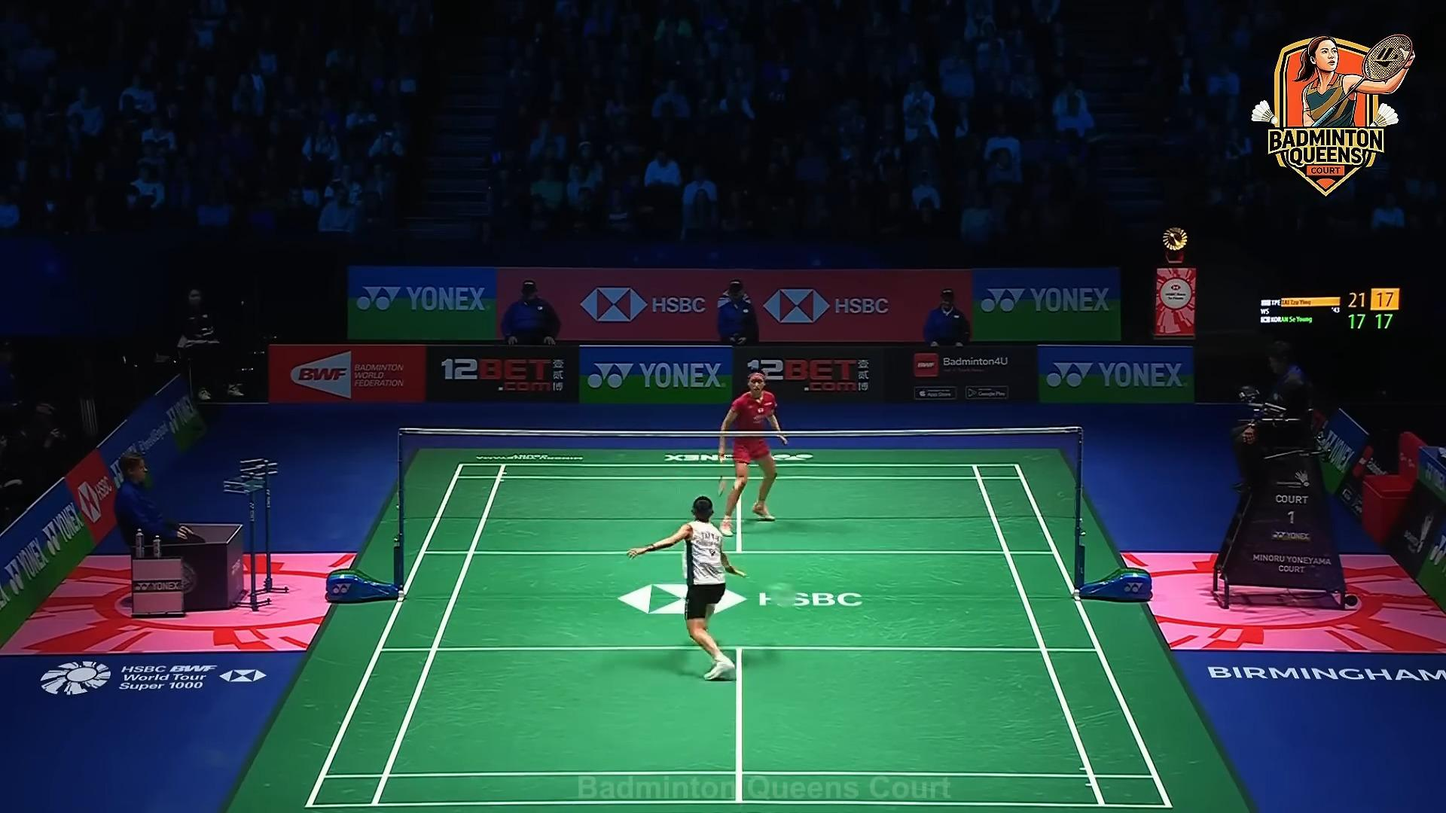player: (625, 495, 744, 681), (716, 366, 789, 537)
